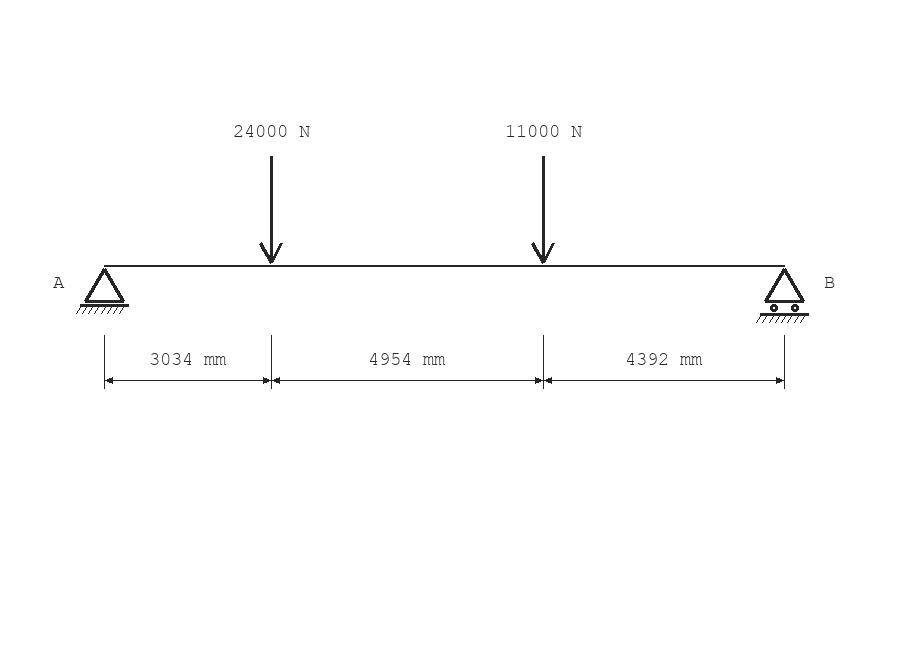pin_support: (76, 268, 129, 314)
point_load: (259, 156, 283, 264), (531, 156, 555, 264)
roller_support: (756, 268, 809, 323)
